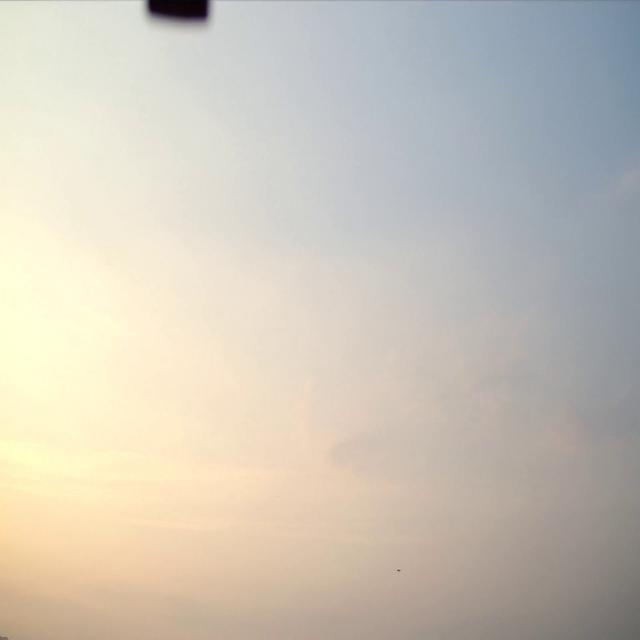drone: (398, 568, 401, 572)
